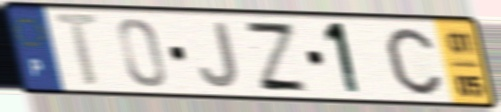0: (115, 16, 168, 89)
1: (319, 19, 364, 99)
C: (383, 25, 445, 98)
J: (196, 20, 242, 91)
T: (49, 10, 107, 91)
Z: (240, 18, 313, 95)
